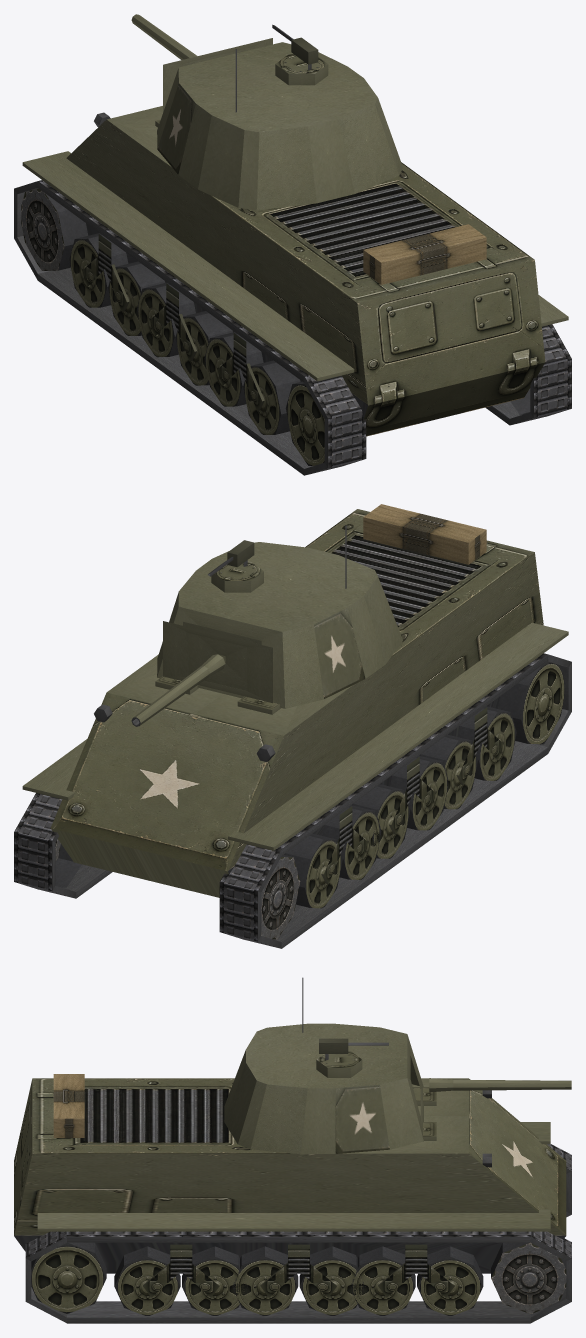
File: us_m4a3_75w_vvss_1944.glb
3 views of the same model, one above another, from view 1: azimuth 30°, elevation 25°; view 2: azimuth 150°, elevation 25°; view 3: azimuth 270°, elevation 25° (orthographic). The views are drawn at different scales.
Parts seen in each view (by area): view 1: Cosmetic_wheels, Cosmetic_hull_Olive, Cosmetic_track_left, Armor_hull_1_6, Armor_turret_roof, Armor_hull_1_4, Armor_hull_1_5, Armor_hull_1_7, Armor_hull_roof_5, Armor_hull_roof_4, Armor_turret_wall_8, Cosmetic_suspension (+15 smaller); view 2: Cosmetic_wheels, Cosmetic_hull_Olive, Cosmetic_track_left, Armor_hull_1_0, Armor_hull_1_1, Armor_hull_1_6, Armor_turret_roof, Armor_hull_1_7, Armor_hull_roof_5, Cosmetic_track_right, Cosmetic_suspension, Armor_turret_wall_12 (+20 smaller); view 3: Cosmetic_wheels, Armor_hull_1_3, Cosmetic_track_right, Cosmetic_hull_Olive, Armor_hull_1_2, Armor_turret_roof, Armor_hull_roof_4, Armor_hull_roof_5, Cosmetic_suspension, Armor_hull_1_0, Armor_hull_1_1, Armor_turret_wall_2 (+17 smaller).
Boxes of the visible parts, x1,y1,x2,y2 form: Cosmetic_wheels: [21, 188, 530, 465]; Cosmetic_hull_Olive: [22, 112, 568, 381]; Cosmetic_track_left: [14, 180, 366, 475]; Armor_hull_1_6: [204, 192, 367, 405]; Armor_turret_roof: [178, 42, 377, 132]; Armor_hull_1_4: [446, 260, 545, 383]; Armor_hull_1_5: [357, 281, 456, 405]; Armor_hull_1_7: [66, 119, 204, 258]; Armor_hull_roof_5: [257, 199, 445, 302]; Armor_hull_roof_4: [334, 177, 534, 281]; Armor_turret_wall_8: [256, 126, 316, 210]; Cosmetic_suspension: [83, 234, 264, 410]; Cosmetic_wheels: [55, 661, 564, 939]; Cosmetic_hull_Olive: [22, 504, 568, 850]; Cosmetic_track_left: [219, 653, 571, 948]; Armor_hull_1_0: [139, 714, 283, 871]; Armor_hull_1_1: [51, 692, 194, 849]; Armor_hull_1_6: [381, 552, 543, 731]; Armor_turret_roof: [178, 542, 377, 631]; Armor_hull_1_7: [228, 667, 381, 870]; Armor_hull_roof_5: [379, 540, 534, 631]; Cosmetic_track_right: [14, 793, 112, 898]; Cosmetic_suspension: [321, 707, 502, 884]; Armor_turret_wall_12: [314, 608, 365, 698]; Cosmetic_wheels: [31, 1242, 566, 1315]; Armor_hull_1_3: [14, 1153, 298, 1235]; Cosmetic_track_right: [25, 1231, 571, 1323]; Cosmetic_hull_Olive: [37, 1074, 550, 1231]; Armor_hull_1_2: [299, 1153, 565, 1235]; Armor_turret_roof: [246, 1023, 407, 1088]; Armor_hull_roof_4: [32, 1116, 238, 1153]; Armor_hull_roof_5: [32, 1078, 231, 1115]; Cosmetic_suspension: [143, 1244, 454, 1297]; Armor_hull_1_0: [469, 1079, 566, 1197]; Armor_hull_1_1: [469, 1116, 566, 1235]; Armor_turret_wall_2: [335, 1084, 389, 1153].
Bounding box in the file's own units: 2.75 × 3.25 × 6.07.
Materials: 1 (1 with a texture image).
